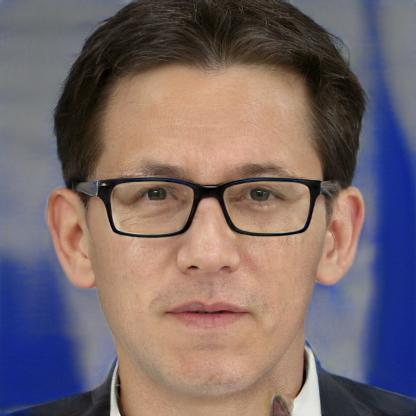glasses: (95, 170, 328, 239)
